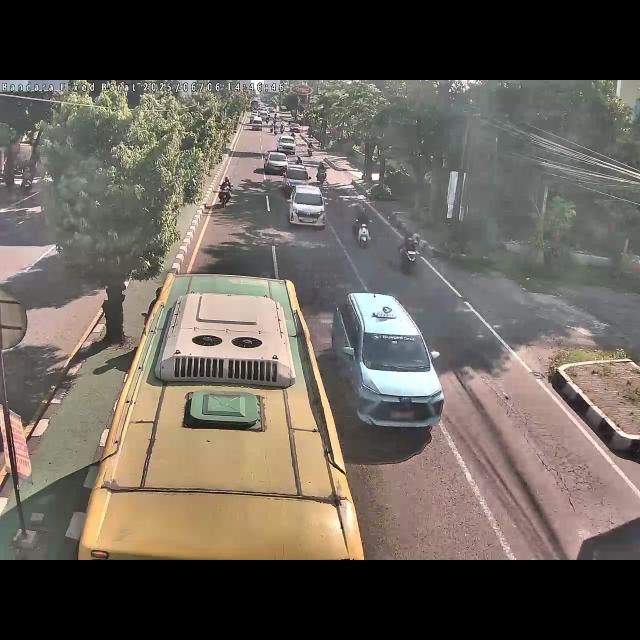Bis: (73, 262, 380, 560)
Mobil: (326, 290, 446, 432), (288, 185, 328, 232), (283, 162, 311, 195)
Motor: (350, 208, 376, 250), (397, 233, 421, 277), (216, 176, 234, 208)
